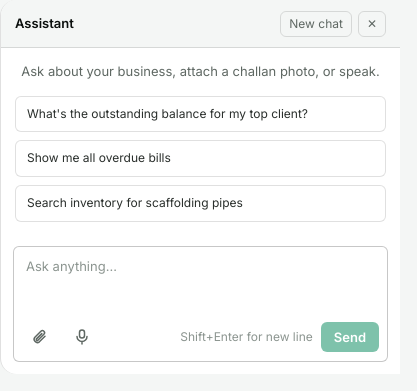
Test: AssistantPanel › shows a request failure
Type "hi" into the text box named "Message the assistant" at (200, 284), box [22,255,379,313]
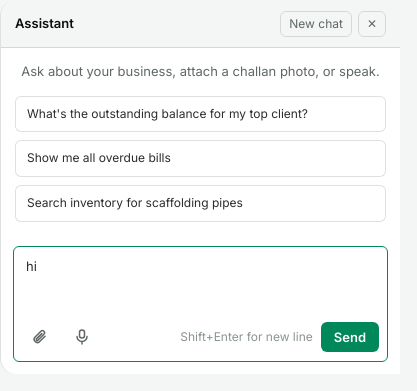
Click the button "Send" at (350, 337), box [321,322,379,352]
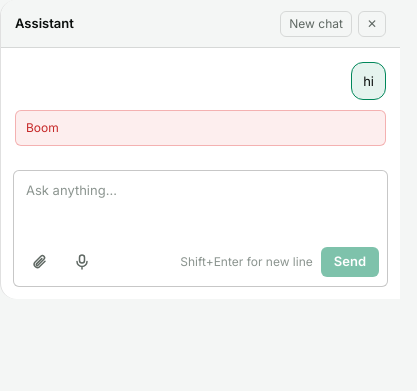
Now the text "Boom" is shown, box [15,110,386,146]
